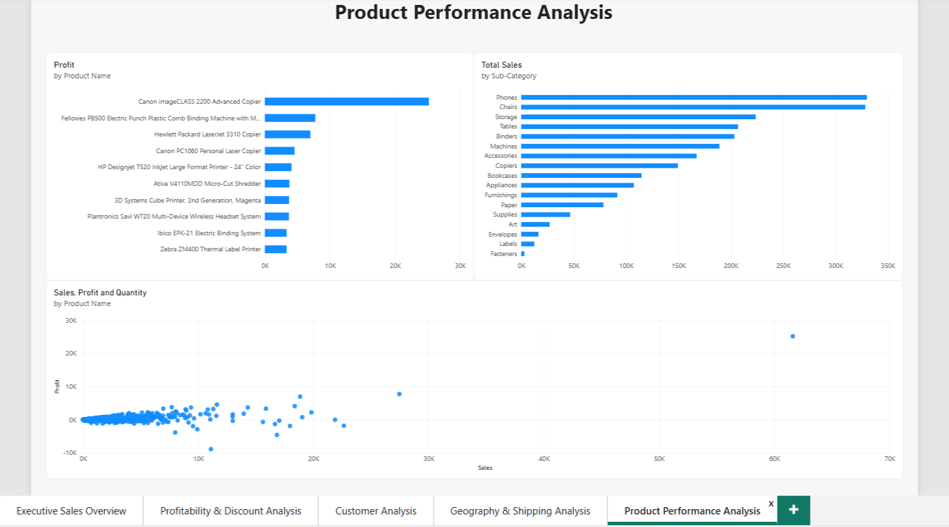

Layout of this report page (visuals, bound fields, positions):
{"tool":"powerbi","page":{"name":"Product Performance Analysis","canvas":[1920,1080],"ordinal":4},"visuals":[{"type":"textbox","box":[10.3,0,1895.7,154.4],"z":0},{"type":"clusteredBarChart","fields":{"Category":["Orders.Product Name"],"Y":["Sum(Orders.Profit)"]},"box":[32.9,119.4,926.2,494],"z":1},{"type":"scatterChart","fields":{"Category":["Orders.Product Name"],"X":["Sum(Orders.Sales)"],"Y":["Sum(Orders.Profit)"]},"box":[32.9,613.4,1856.6,430.2],"z":2},{"type":"clusteredBarChart","fields":{"Category":["Orders.Sub-Category"],"Y":["Orders.Total Sales"]},"box":[959.2,119.4,930.4,494],"z":3}]}

Visuals, with their boxes on the page's 1920x1080 design canvas (x1, y1, x2, y2). These are canvas units, not pixel positions in the 949x527 screenshot, which may show the page scaled, cropped or inside an application window:
textbox: select_region(10, 0, 1906, 154)
clusteredBarChart - Orders.Product Name x Sum(Orders.Profit): select_region(33, 119, 959, 613)
scatterChart - Orders.Product Name x Sum(Orders.Sales): select_region(33, 613, 1890, 1044)
clusteredBarChart - Orders.Sub-Category x Orders.Total Sales: select_region(959, 119, 1890, 613)
